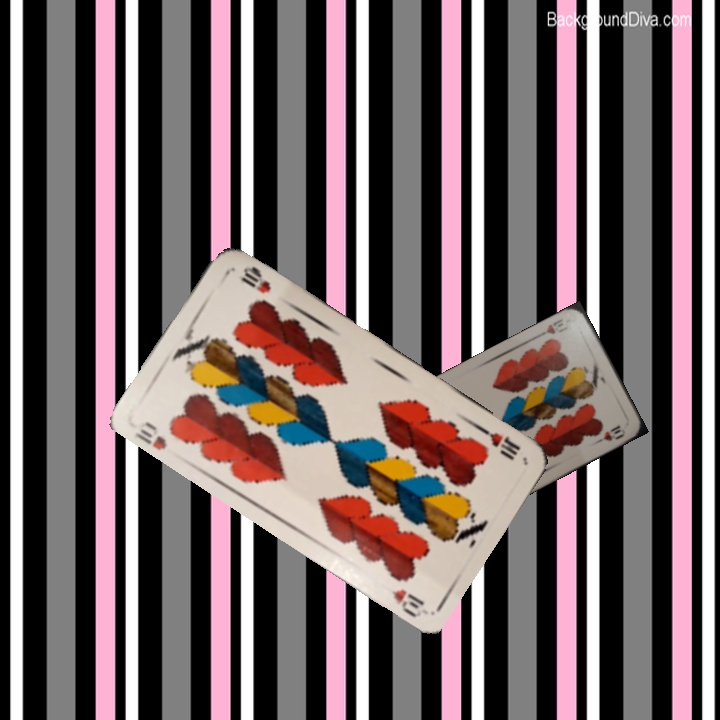H10: (474, 422, 524, 462), (131, 417, 170, 453), (534, 314, 570, 340)
